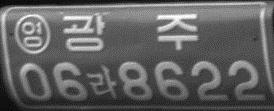0: (18, 62, 52, 103)
2: (189, 60, 227, 102), (227, 58, 265, 100)
6: (52, 60, 87, 103), (153, 60, 189, 101)
8: (118, 61, 153, 102)
광주_D: (61, 13, 198, 53)
라: (87, 63, 119, 100)
영: (13, 12, 51, 55)
